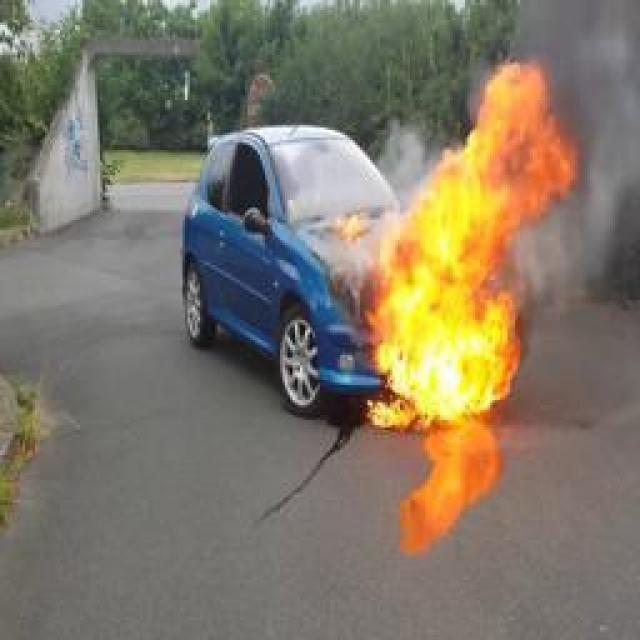Fire: (361, 61, 584, 429)
